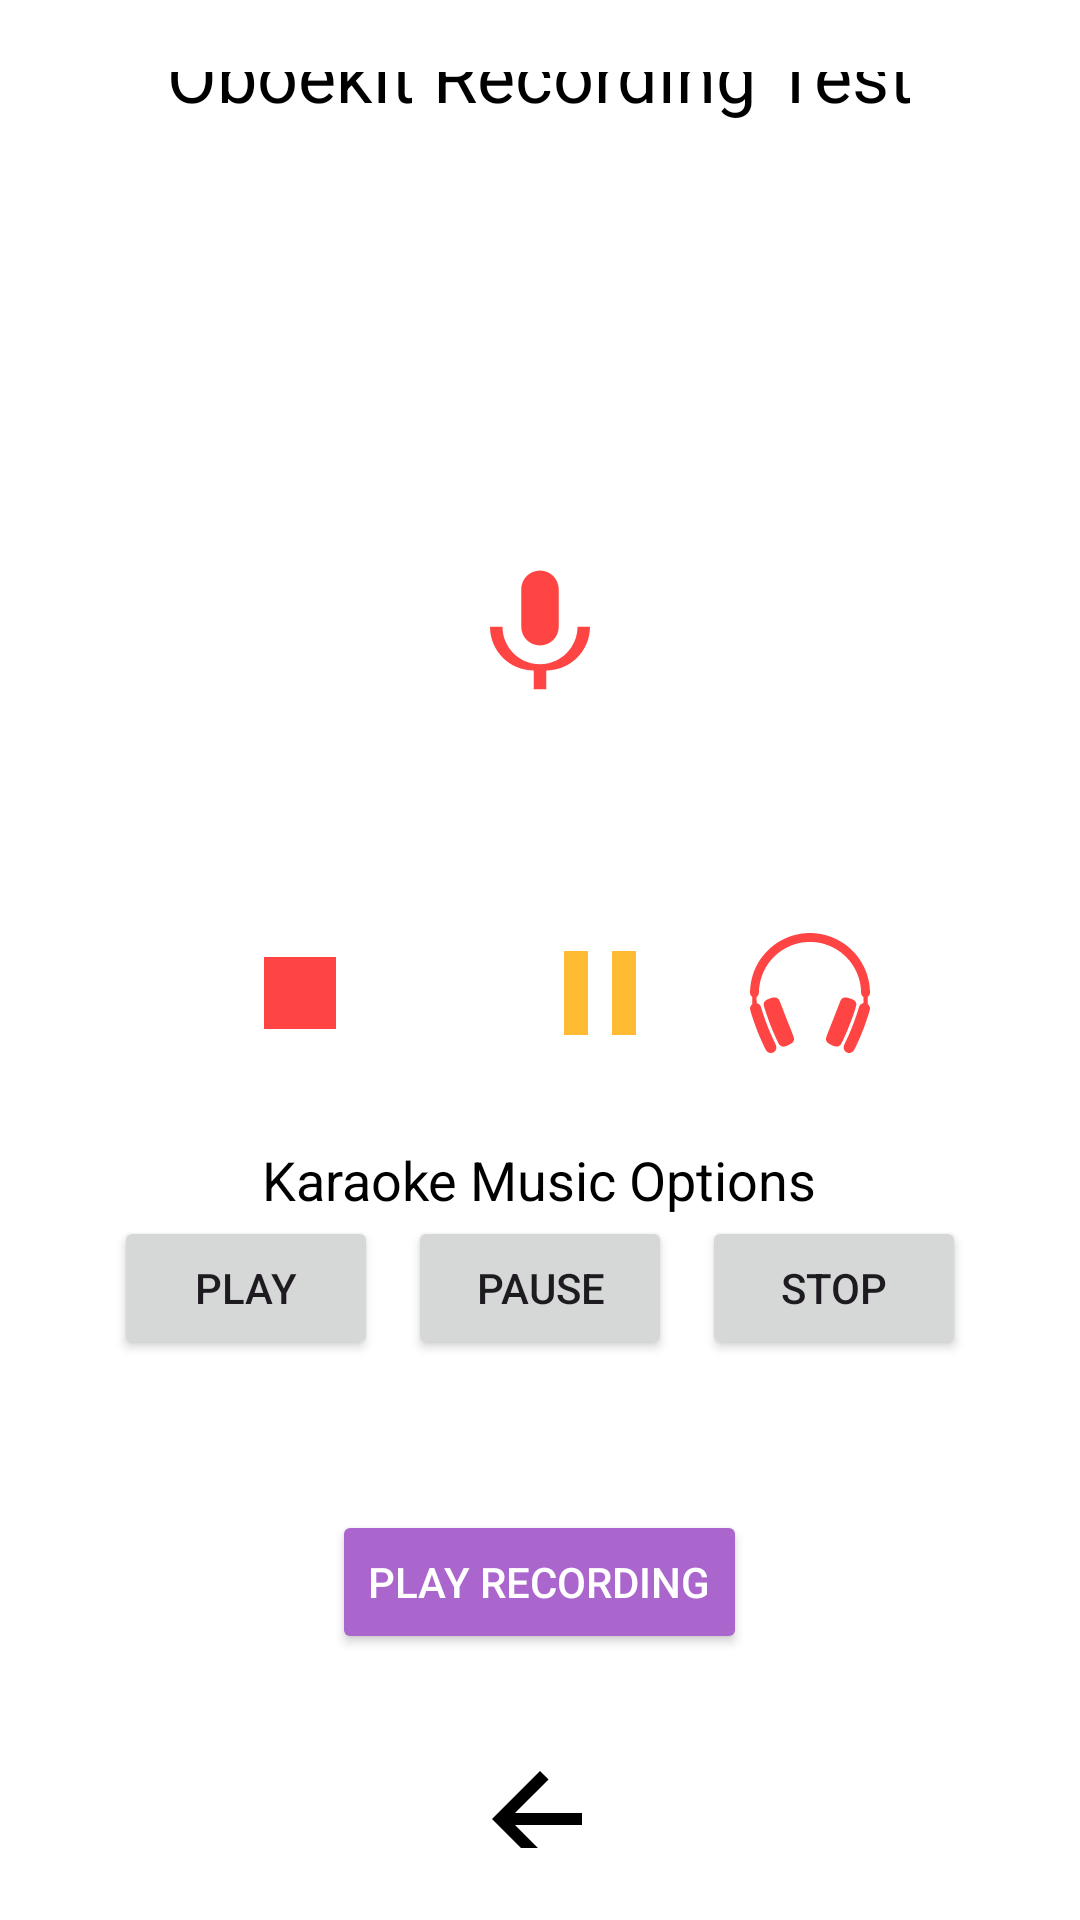

Where icons sit on this 1080px×1920px app screen, as (x1, y1, x2, y2):
Back: (492, 1771, 582, 1848)
Earback: (750, 933, 870, 1053)
Start Recording: (490, 570, 590, 690)
